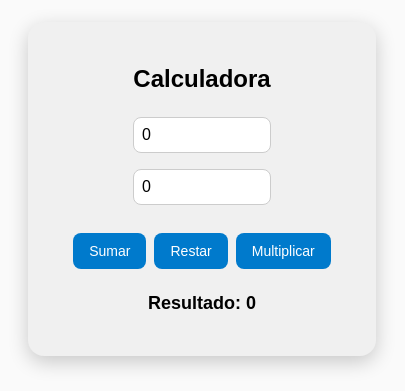
Test: Calculator E2E - Initial state and operations › should calculate subtraction correctly
The width and height of the screenshot is (405, 391).
Replace the text in the 1st number field with "10" at (202, 136), box [133, 118, 271, 154]
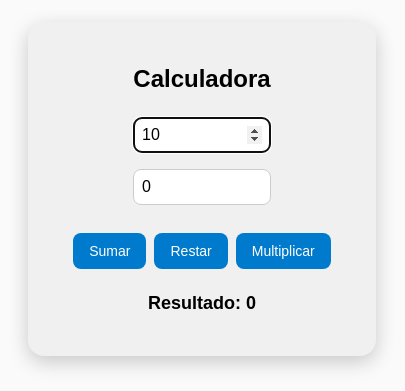
Replace the text in the 2nd number field with "4" at (202, 188), box [133, 170, 271, 206]
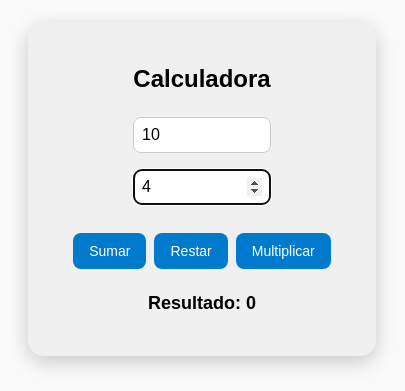
Click the button "Restar" at (192, 252), box [155, 234, 228, 270]
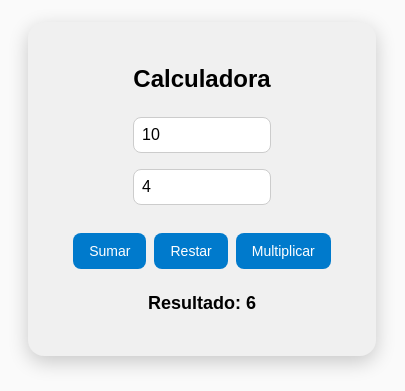
Expected: the text "Resultado: 6" is shown, [148, 294, 256, 314]
